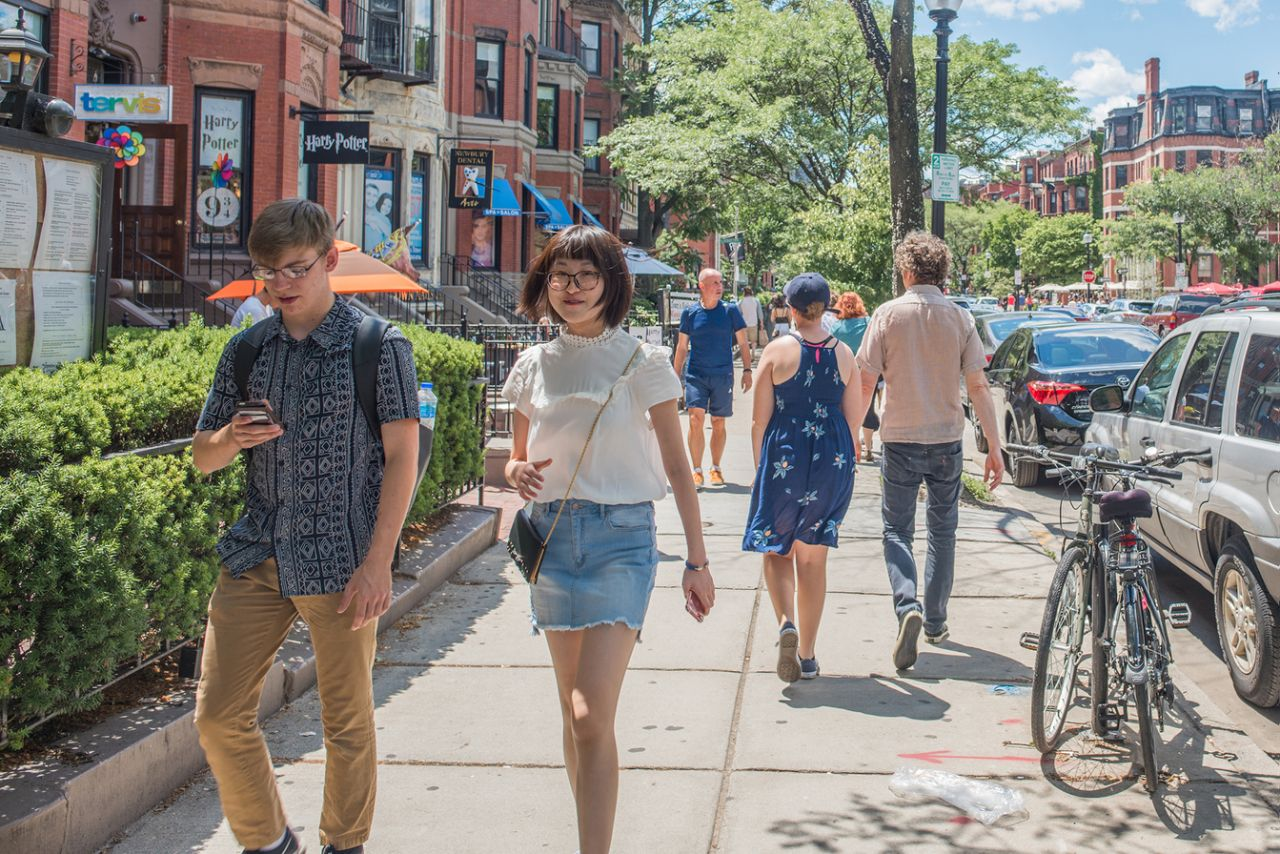Person: (186, 196, 422, 854), (501, 222, 717, 854), (854, 229, 1007, 672), (748, 270, 864, 687), (671, 267, 754, 495)
